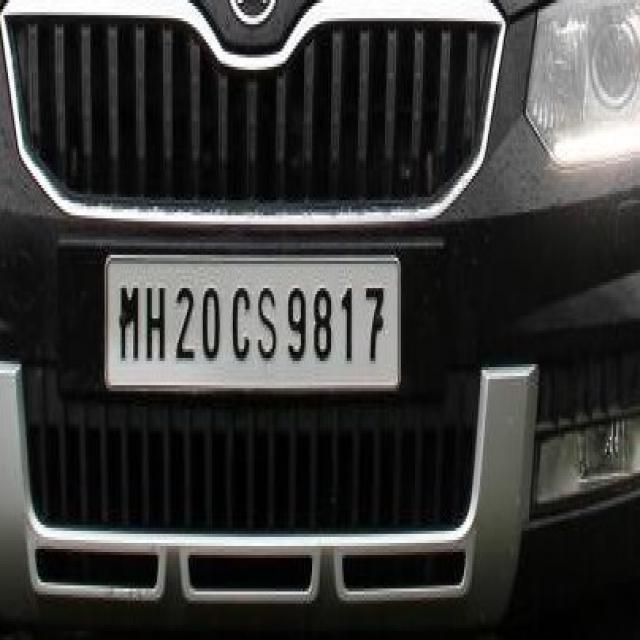license-plate: (106, 255, 398, 385)
